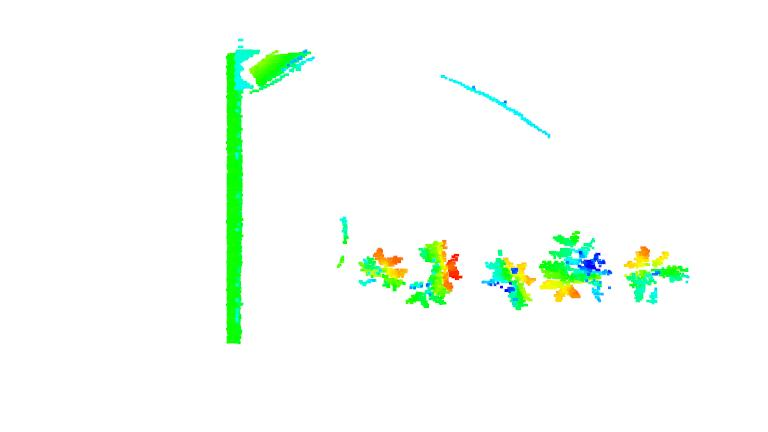chickpea: (538, 230, 613, 304), (404, 238, 463, 309), (623, 246, 691, 305), (481, 249, 536, 311), (354, 247, 408, 291)
